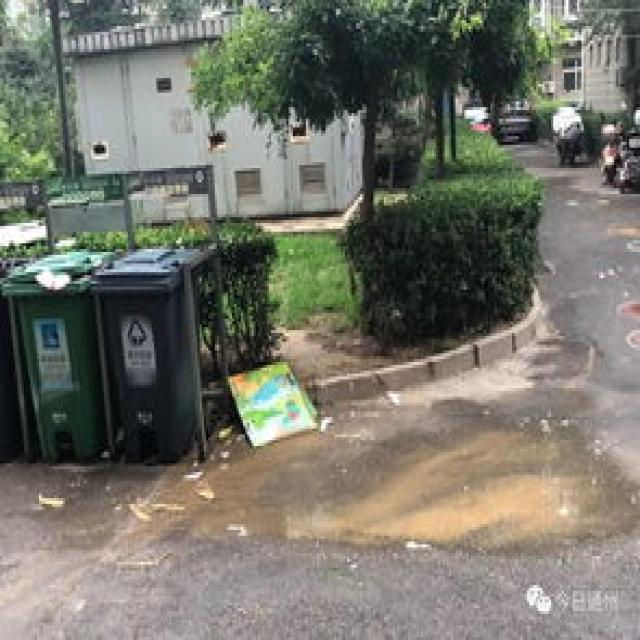garbage: (215, 353, 330, 443)
garbage_bin: (89, 244, 200, 466)
overflow: (0, 246, 113, 461)
